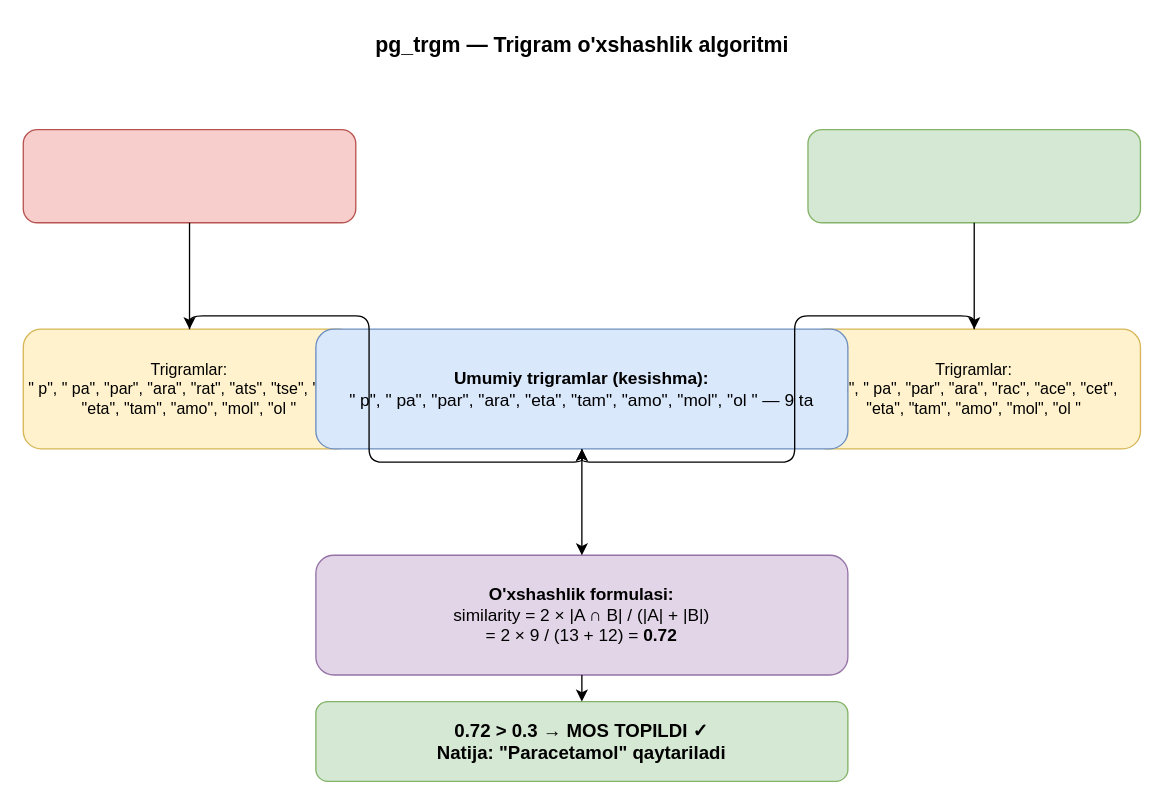
The diagram is 1164 pixels wide and 805 high, and some of its shapes have lost their labels. The box of each missing label's shape, as (x1, y1, x2, y2) in pixels:
Foydalanuvchi kiritgan so'z "paratsetamol": (22, 128, 356, 223)
Ma'lumotlar bazasidagi nom "Paracetamol": (807, 128, 1140, 223)
